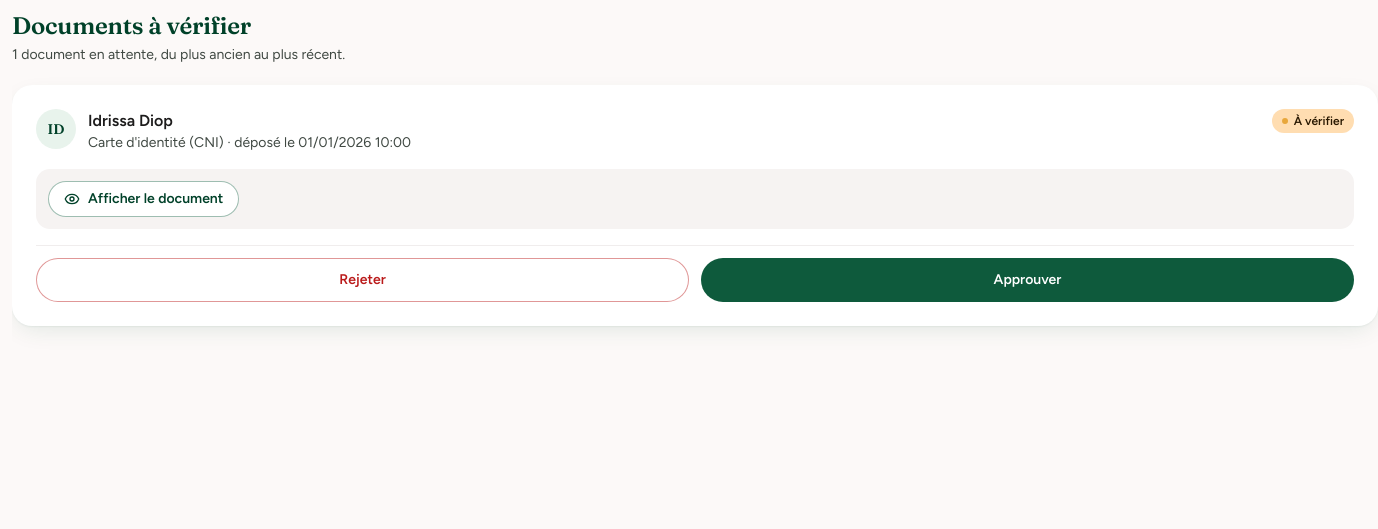
AdminVerificationQueueScreen › requires a motif before the reject can be confirmed
Click the button "Rejeter" at [362, 280], box x1=36 y1=258 x2=689 y2=302
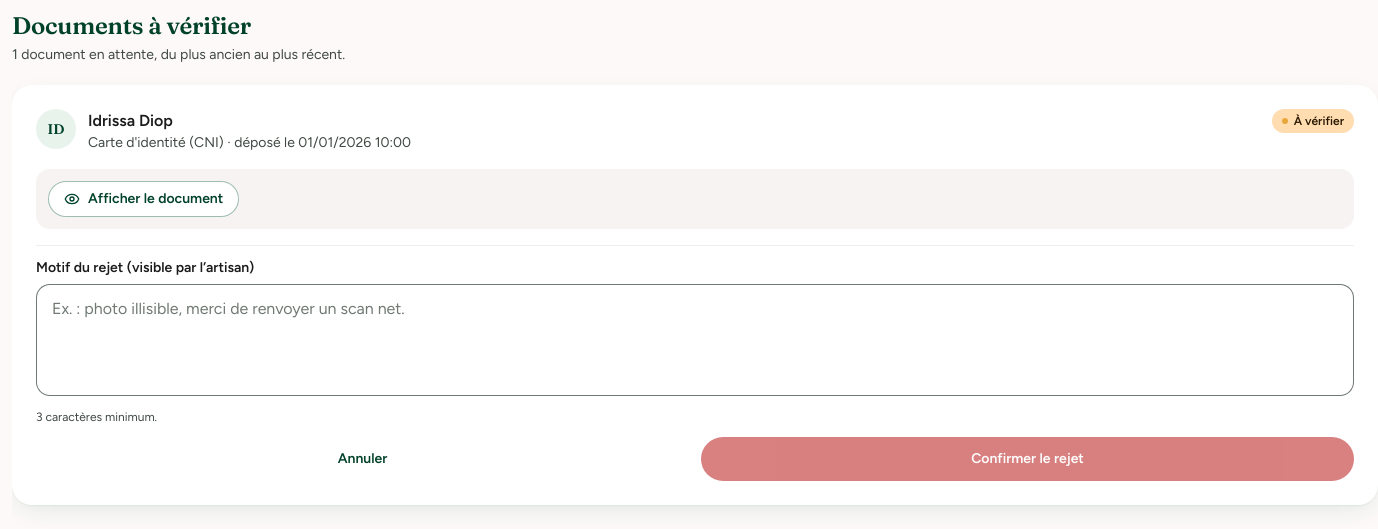
Check: the button "Confirmer le rejet" is disabled, box x1=701 y1=437 x2=1354 y2=481
Type "ok" into the text box labelled "Motif du rejet (visible par l’artisan)" at [695, 340], box x1=36 y1=284 x2=1354 y2=396
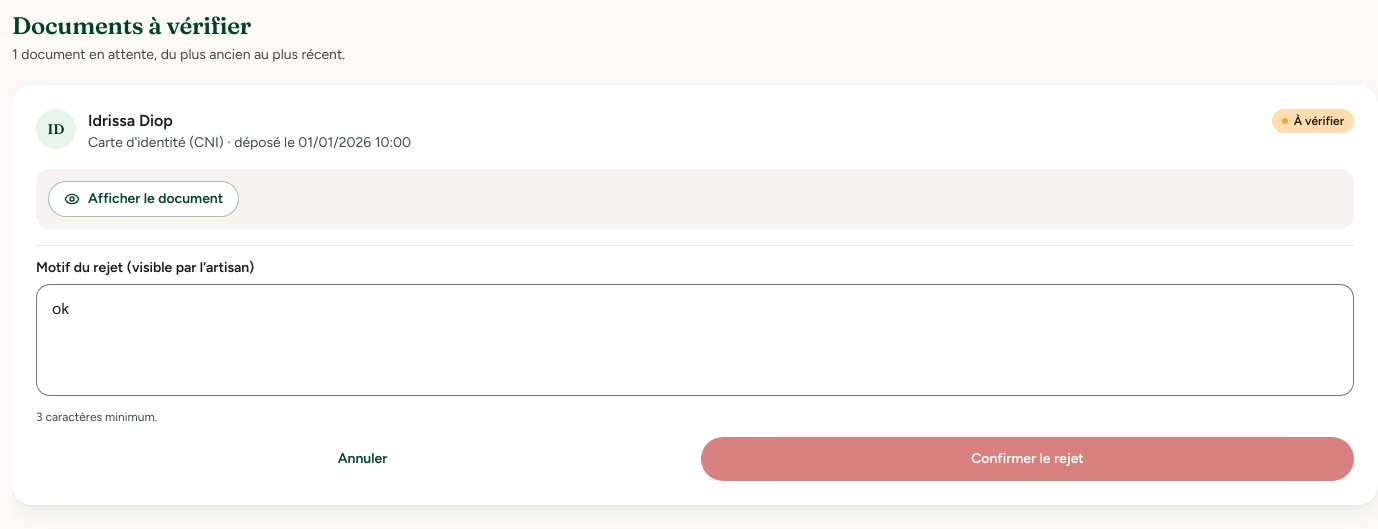
Check: the button "Confirmer le rejet" is disabled, box x1=701 y1=437 x2=1354 y2=481
Replace the text in the text box labelled "Motif du rejet (visible par l’artisan)" with "Photo illisible." at [695, 340], box x1=36 y1=284 x2=1354 y2=396
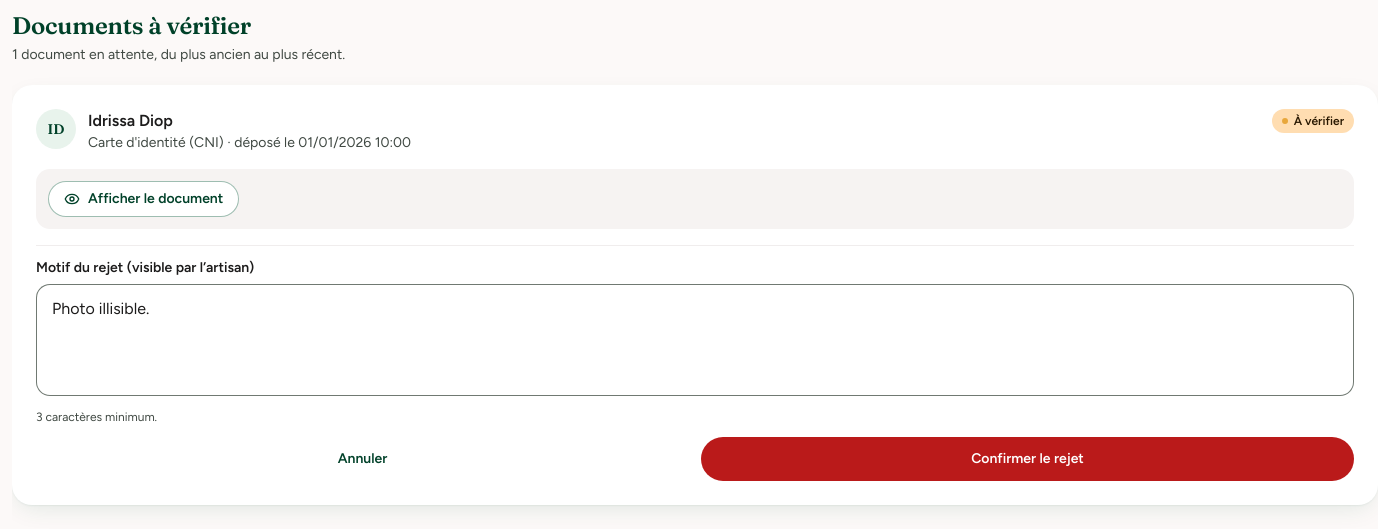
Check: the button "Confirmer le rejet" is enabled, box x1=701 y1=437 x2=1354 y2=481
